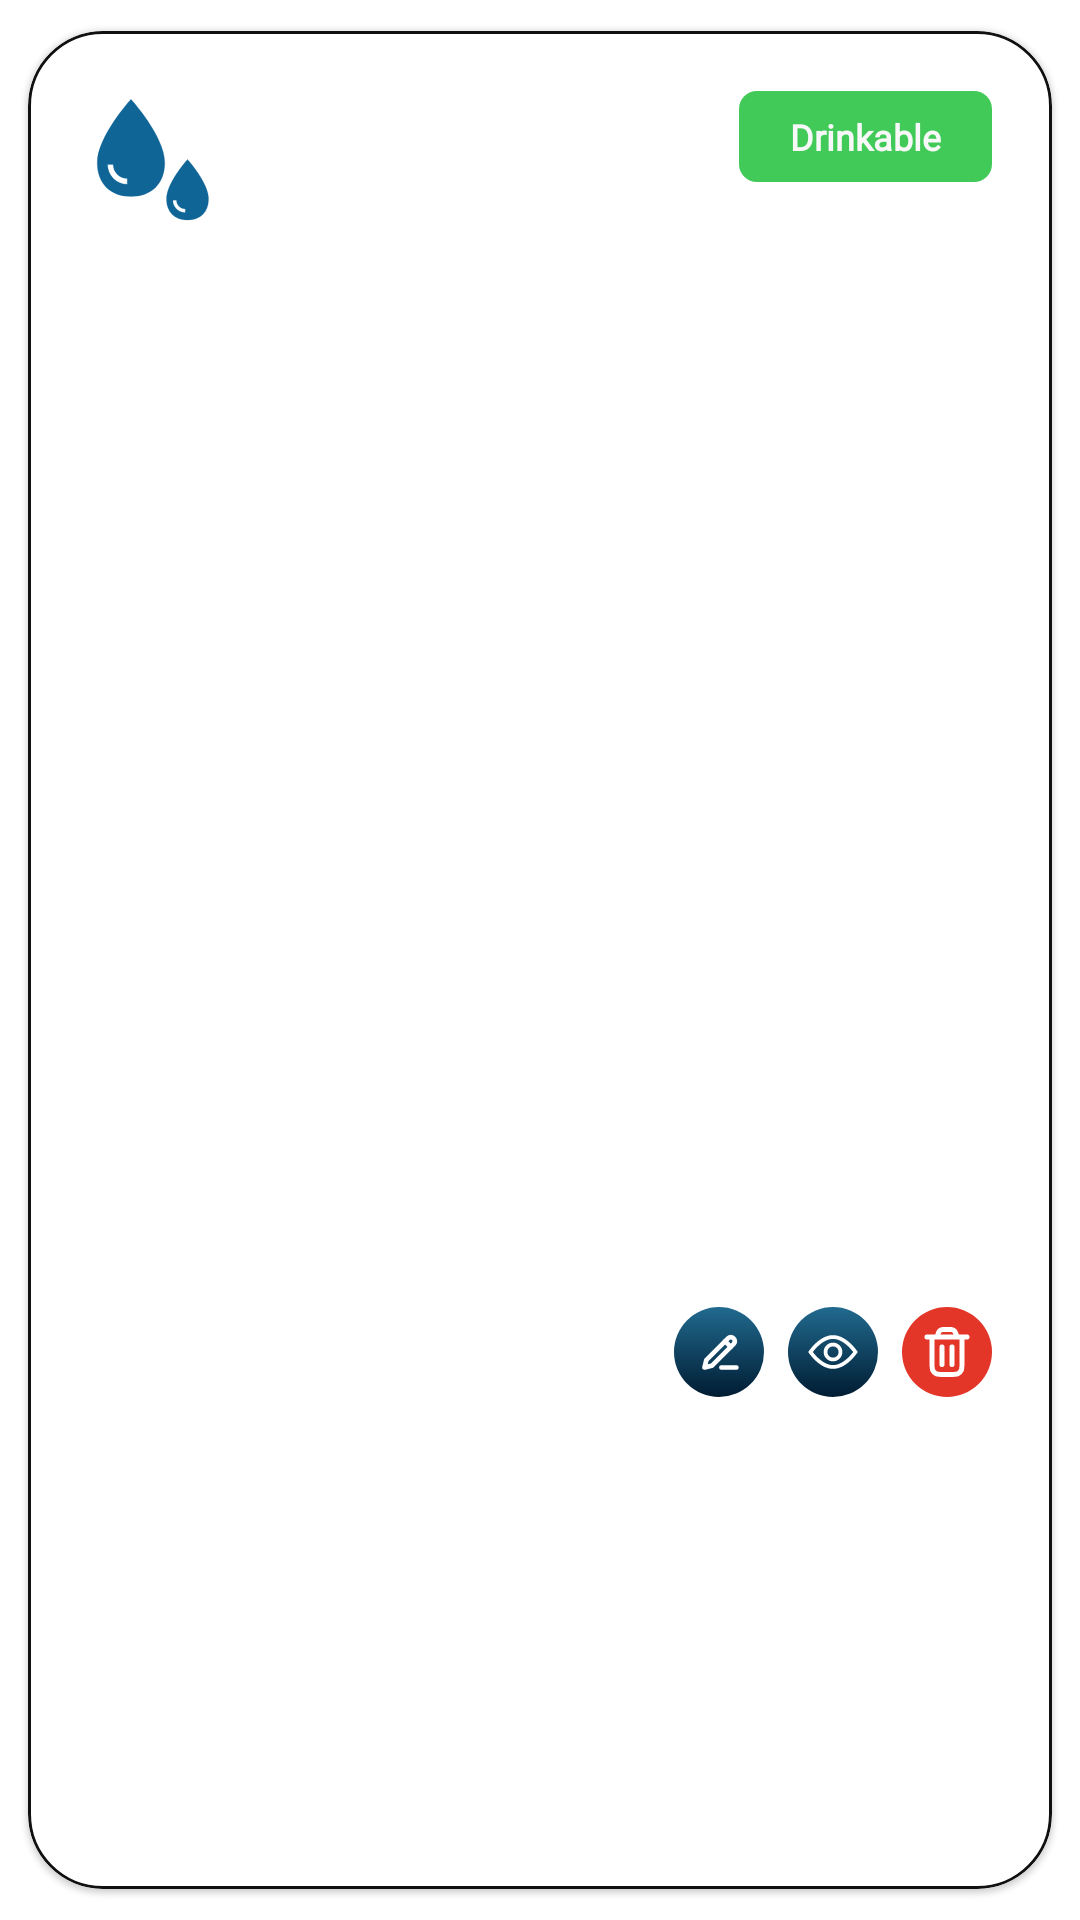

Icons on this 1080px×1920px Android screen, each with the point to tap as (x,y):
edit: (719,1352)
eye show: (833,1352)
trash: (947,1352)
